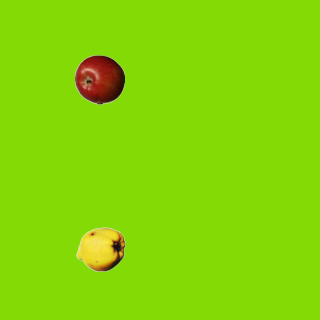Apple Braeburn: (74, 54, 124, 104)
Quince: (75, 224, 125, 274)
